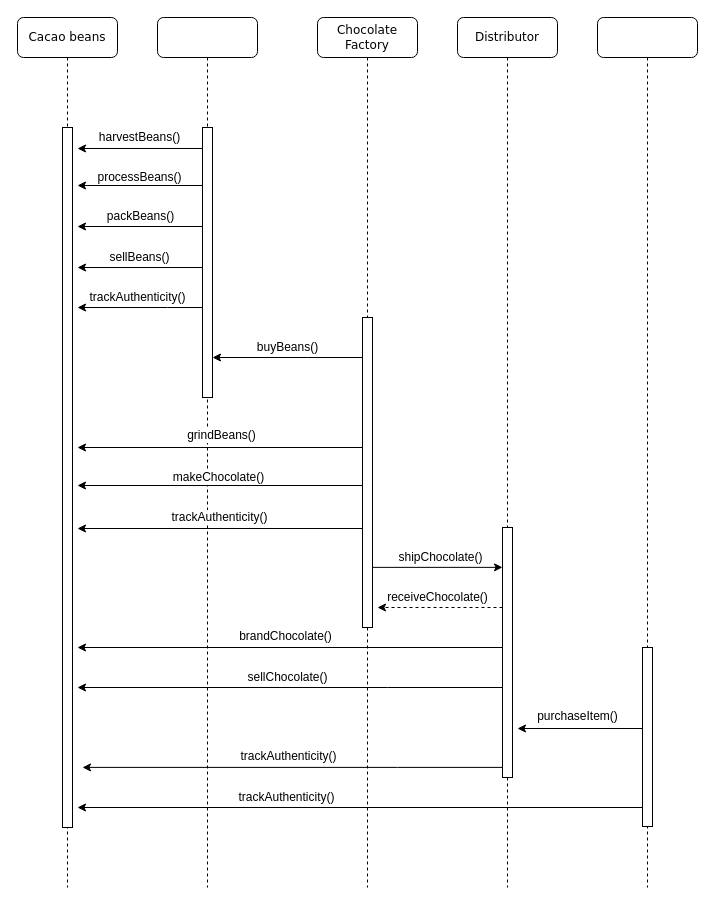
The diagram is 715 pixels wide and 905 high, and some of its shapes have lost their labels. The box of each missing label's shape, as (x1, y1, x2, y2) in pixels:
Consumer: (596, 16, 698, 888)
Farmer: (156, 16, 258, 888)
